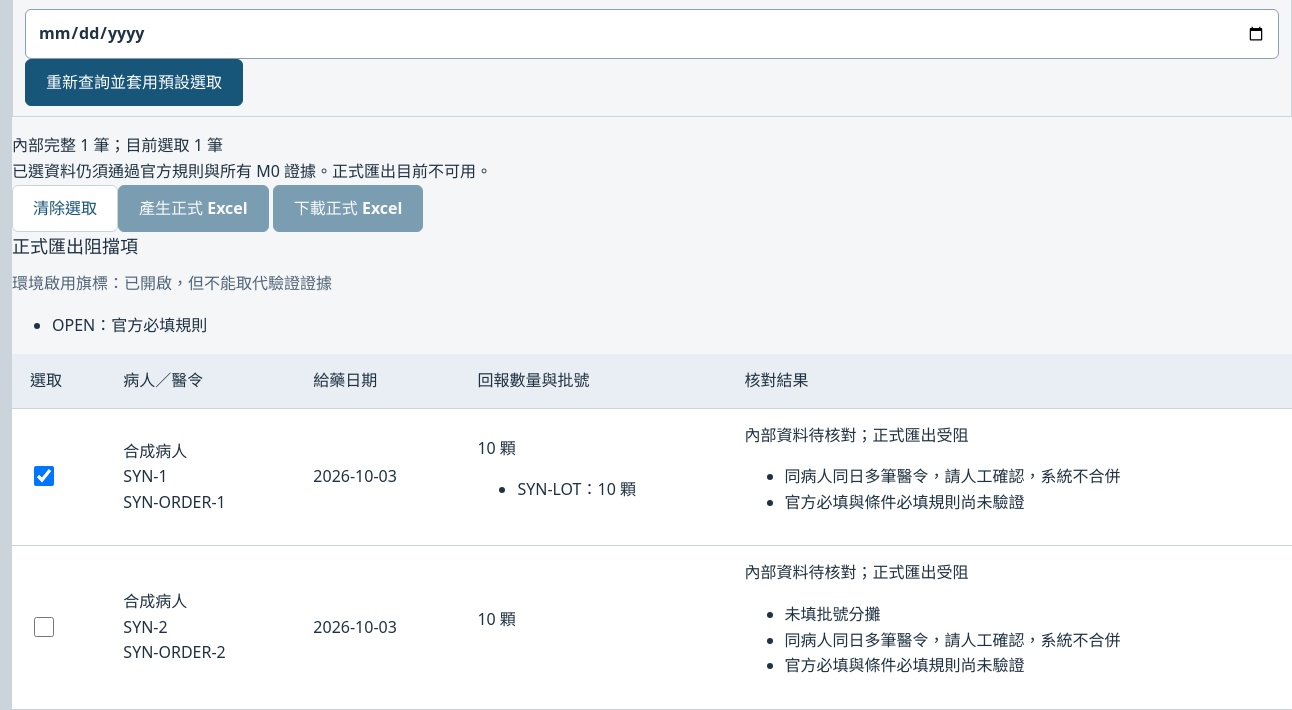
Test case: manual selection is server-reviewed and an enabled flag never enables workbook actions
(page scrolled)
Expected: the text "內部完整 1 筆；目前選取 1 筆" is shown, left=12, top=134, right=223, bottom=156
Expected: the list item "OPEN：官方必填規則" is shown, left=52, top=314, right=207, bottom=336
What coordinates should you click on to do the following:
click the checkbox named "選取 SYN-ORDER-2"
I would click on:
 (44, 627)
Its box is left=34, top=617, right=54, bottom=637.
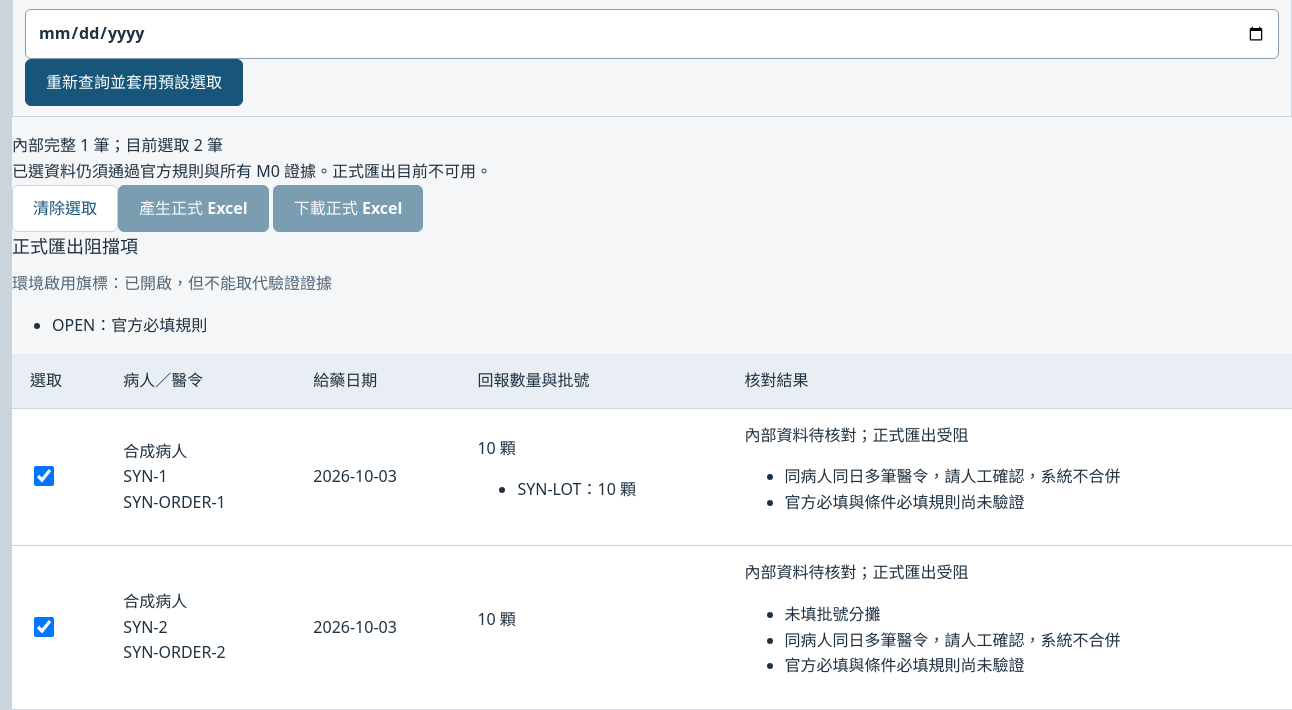
Expected: the list item "未填批號分攤" is shown, left=784, top=603, right=880, bottom=625
Expected: the text "內部完整 1 筆；目前選取 2 筆" is shown, left=12, top=134, right=223, bottom=156
